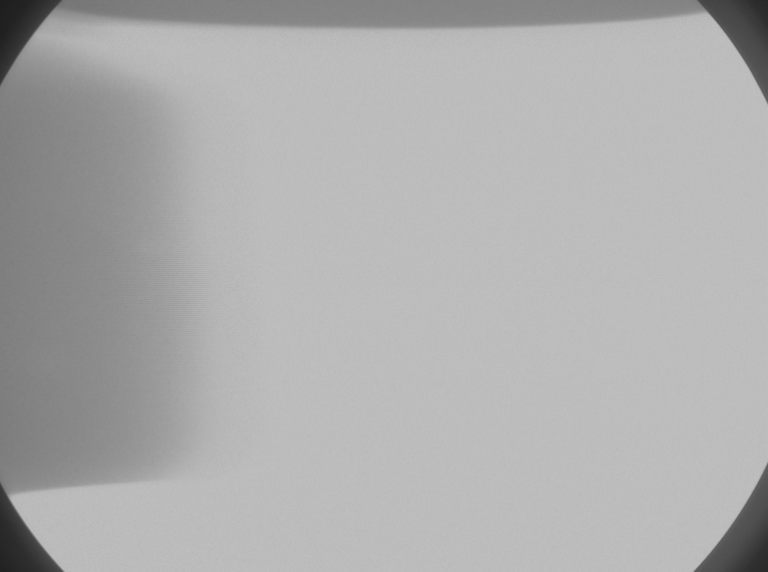defect: (122, 223, 171, 271)
